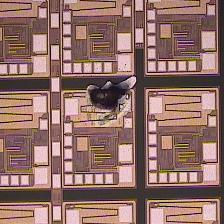PARTICLE: (80, 73, 144, 131)
